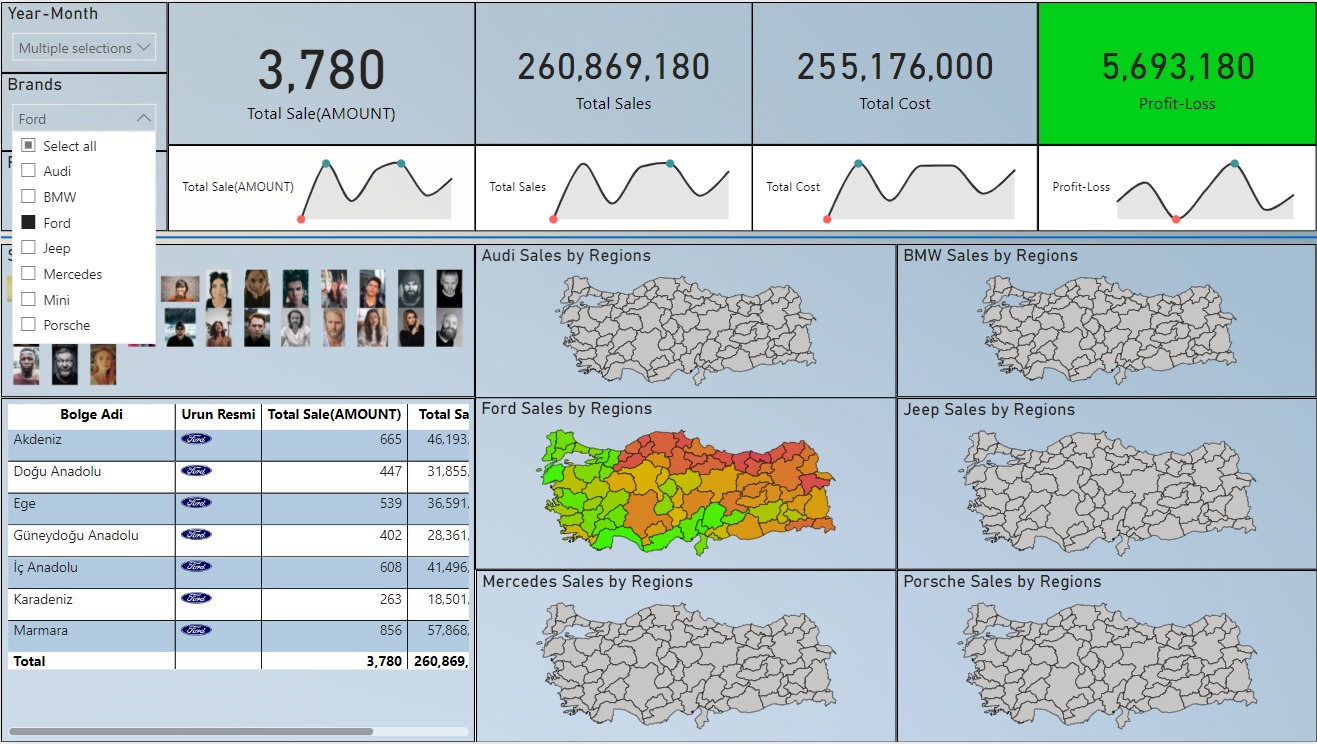

This screenshot's page, from the dashboard's own definition file:
{"tool":"powerbi","page":{"name":" Sales by Brands","canvas":[1280,720],"ordinal":1},"visuals":[{"type":"slicer","title":"Year-Month","fields":{"Values":["Satis Verileri.Yil-Ay"]},"box":[0,0,162.4,69.4],"z":0},{"type":"slicer","title":"Brands","fields":{"Values":["Urunler.Urun Adi"]},"box":[0,69.4,162.4,75.5],"z":1000},{"type":"card","fields":{"Values":["Measurements.Total Sale(AMOUNT)"]},"box":[162.4,0,298.5,138.7],"z":2000},{"type":"card","fields":{"Values":["Measurements.Total Sales"]},"box":[461,0,269.6,138.7],"z":3000},{"type":"card","fields":{"Values":["Measurements.Total Cost"]},"box":[730.5,0,278.3,138.7],"z":4000},{"type":"card","fields":{"Values":["Measurements.Profit-Loss"]},"box":[1008.9,0,271.3,138.7],"z":5000},{"type":"PBI_CV_25997FEB_F466_44FA_B562_AC4063283C4C","fields":{"axis":["Satis Verileri.Yil-Ay"],"measure":["Measurements.Total Sale(AMOUNT)"]},"box":[162.4,138.7,298.5,84.3],"z":6000},{"type":"PBI_CV_25997FEB_F466_44FA_B562_AC4063283C4C","fields":{"axis":["Satis Verileri.Yil-Ay"],"measure":["Measurements.Total Sales"]},"box":[461,138.7,269.6,84.3],"z":7000},{"type":"PBI_CV_25997FEB_F466_44FA_B562_AC4063283C4C","fields":{"axis":["Satis Verileri.Yil-Ay"],"measure":["Measurements.Total Cost"]},"box":[730.5,138.7,278.3,84.3],"z":8000},{"type":"PBI_CV_25997FEB_F466_44FA_B562_AC4063283C4C","fields":{"axis":["Satis Verileri.Yil-Ay"],"measure":["Measurements.Profit-Loss"]},"box":[1008.9,138.7,271.3,84.3],"z":9000},{"type":"shape","box":[0,223,1280.2,12.3],"z":10000},{"type":"tableEx","fields":{"Values":["Bolgeler.Bolge Adi","Urunler.Urun Resmi","Measurements.Total Sale(AMOUNT)","Measurements.Total Sales","Measurements.Total Cost"]},"box":[0,385.5,461,334.5],"z":11000},{"type":"slicer","title":"Regions","fields":{"Values":["Bolgeler.Bolge Adi"]},"box":[0,144.9,162.4,78.1],"z":12000},{"type":"ImageGrid_FC5183B9_926C_45E0_B5F7_0CE9EAF1DA9B","title":"Sellers","fields":{"ImageURLHQ":["Saticilar.Fotograf Linki"]},"box":[0,235.3,461,149.3],"z":13000},{"type":"shapeMap","title":"Jeep Sales by Regions","fields":{"Category":["Satis Verileri.Satis Merkezi"],"Value":["Measurements.Total Sales"]},"box":[871,385.5,409.2,166.8],"z":14000},{"type":"shapeMap","title":"Porsche Sales by Regions","fields":{"Category":["Satis Verileri.Satis Merkezi"],"Value":["Measurements.Total Sales"]},"box":[871,552.3,409.2,167.7],"z":15000},{"type":"shapeMap","title":"Ford Sales by Regions","fields":{"Category":["Satis Verileri.Satis Merkezi"],"Value":["Measurements.Total Sales"]},"box":[461,384.6,410,167.7],"z":16000},{"type":"shapeMap","title":"Mercedes Sales by Regions","fields":{"Category":["Satis Verileri.Satis Merkezi"],"Value":["Measurements.Total Sales"]},"box":[461.9,552.3,409.2,167.7],"z":17000},{"type":"shapeMap","title":"BMW Sales by Regions","fields":{"Category":["Satis Verileri.Satis Merkezi"],"Value":["Measurements.Total Sales"]},"box":[871,235.3,408.3,149.3],"z":18000},{"type":"shapeMap","title":"Audi Sales by Regions","fields":{"Category":["Satis Verileri.Satis Merkezi"],"Value":["Measurements.Total Sales"]},"box":[461,235.3,410,150.1],"z":19000}]}

Visuals, with their boxes in screenshot pixels (x1, y1, x2, y2), scaled from the page's 1280x720 canvas onto the 1317x744 screenshot:
"Year-Month" slicer: 0:0:167:72
"Brands" slicer: 0:72:167:150
card - Measurements.Total Sale(AMOUNT): 167:0:474:143
card - Measurements.Total Sales: 474:0:752:143
card - Measurements.Total Cost: 752:0:1038:143
card - Measurements.Profit-Loss: 1038:0:1316:143
PBI_CV_25997FEB_F466_44FA_B562_AC4063283C4C - Satis Verileri.Yil-Ay x Measurements.Total Sale(AMOUNT): 167:143:474:230
PBI_CV_25997FEB_F466_44FA_B562_AC4063283C4C - Satis Verileri.Yil-Ay x Measurements.Total Sales: 474:143:752:230
PBI_CV_25997FEB_F466_44FA_B562_AC4063283C4C - Satis Verileri.Yil-Ay x Measurements.Total Cost: 752:143:1038:230
PBI_CV_25997FEB_F466_44FA_B562_AC4063283C4C - Satis Verileri.Yil-Ay x Measurements.Profit-Loss: 1038:143:1316:230
shape: 0:230:1316:243
tableEx - Bolgeler.Bolge Adi x Urunler.Urun Resmi: 0:398:474:743
"Regions" slicer: 0:150:167:230
"Sellers" ImageGrid_FC5183B9_926C_45E0_B5F7_0CE9EAF1DA9B: 0:243:474:397
"Jeep Sales by Regions" shapeMap: 896:398:1316:571
"Porsche Sales by Regions" shapeMap: 896:571:1316:743
"Ford Sales by Regions" shapeMap: 474:397:896:571
"Mercedes Sales by Regions" shapeMap: 475:571:896:743
"BMW Sales by Regions" shapeMap: 896:243:1316:397
"Audi Sales by Regions" shapeMap: 474:243:896:398
